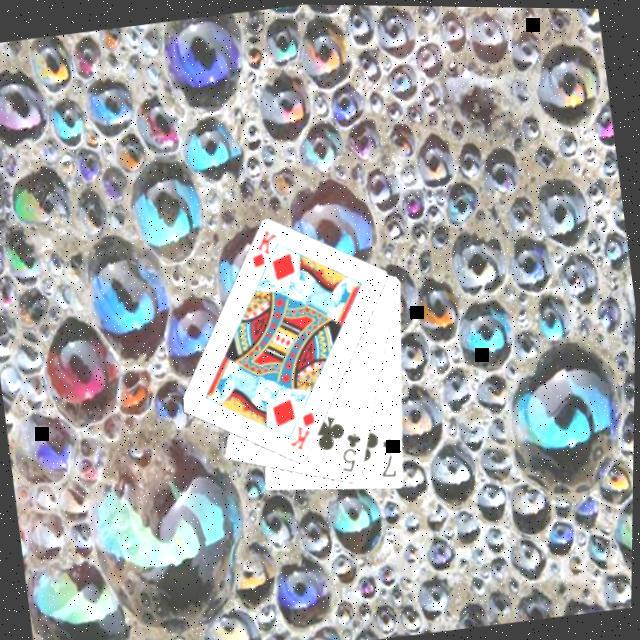5C: (336, 428, 371, 476)
7C: (376, 434, 406, 482)
KD: (284, 407, 325, 455), (246, 226, 287, 273)
